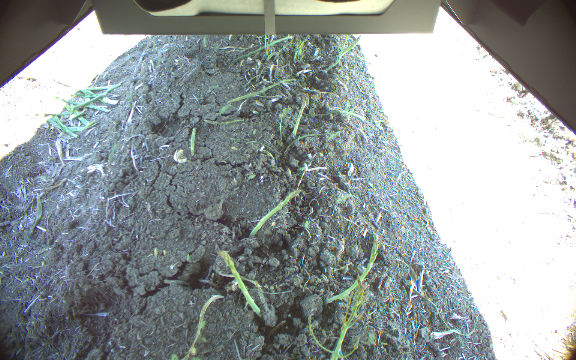aspa: (324, 234, 379, 307), (215, 249, 263, 318), (247, 188, 303, 238), (290, 93, 307, 137)
